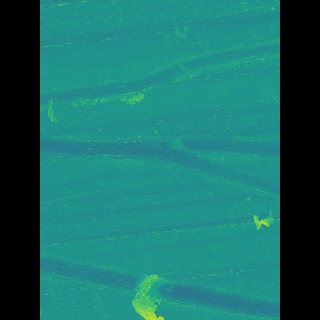Loch: (68, 122, 251, 201), (70, 39, 250, 112), (69, 252, 252, 320), (138, 268, 170, 319), (227, 202, 248, 235)
